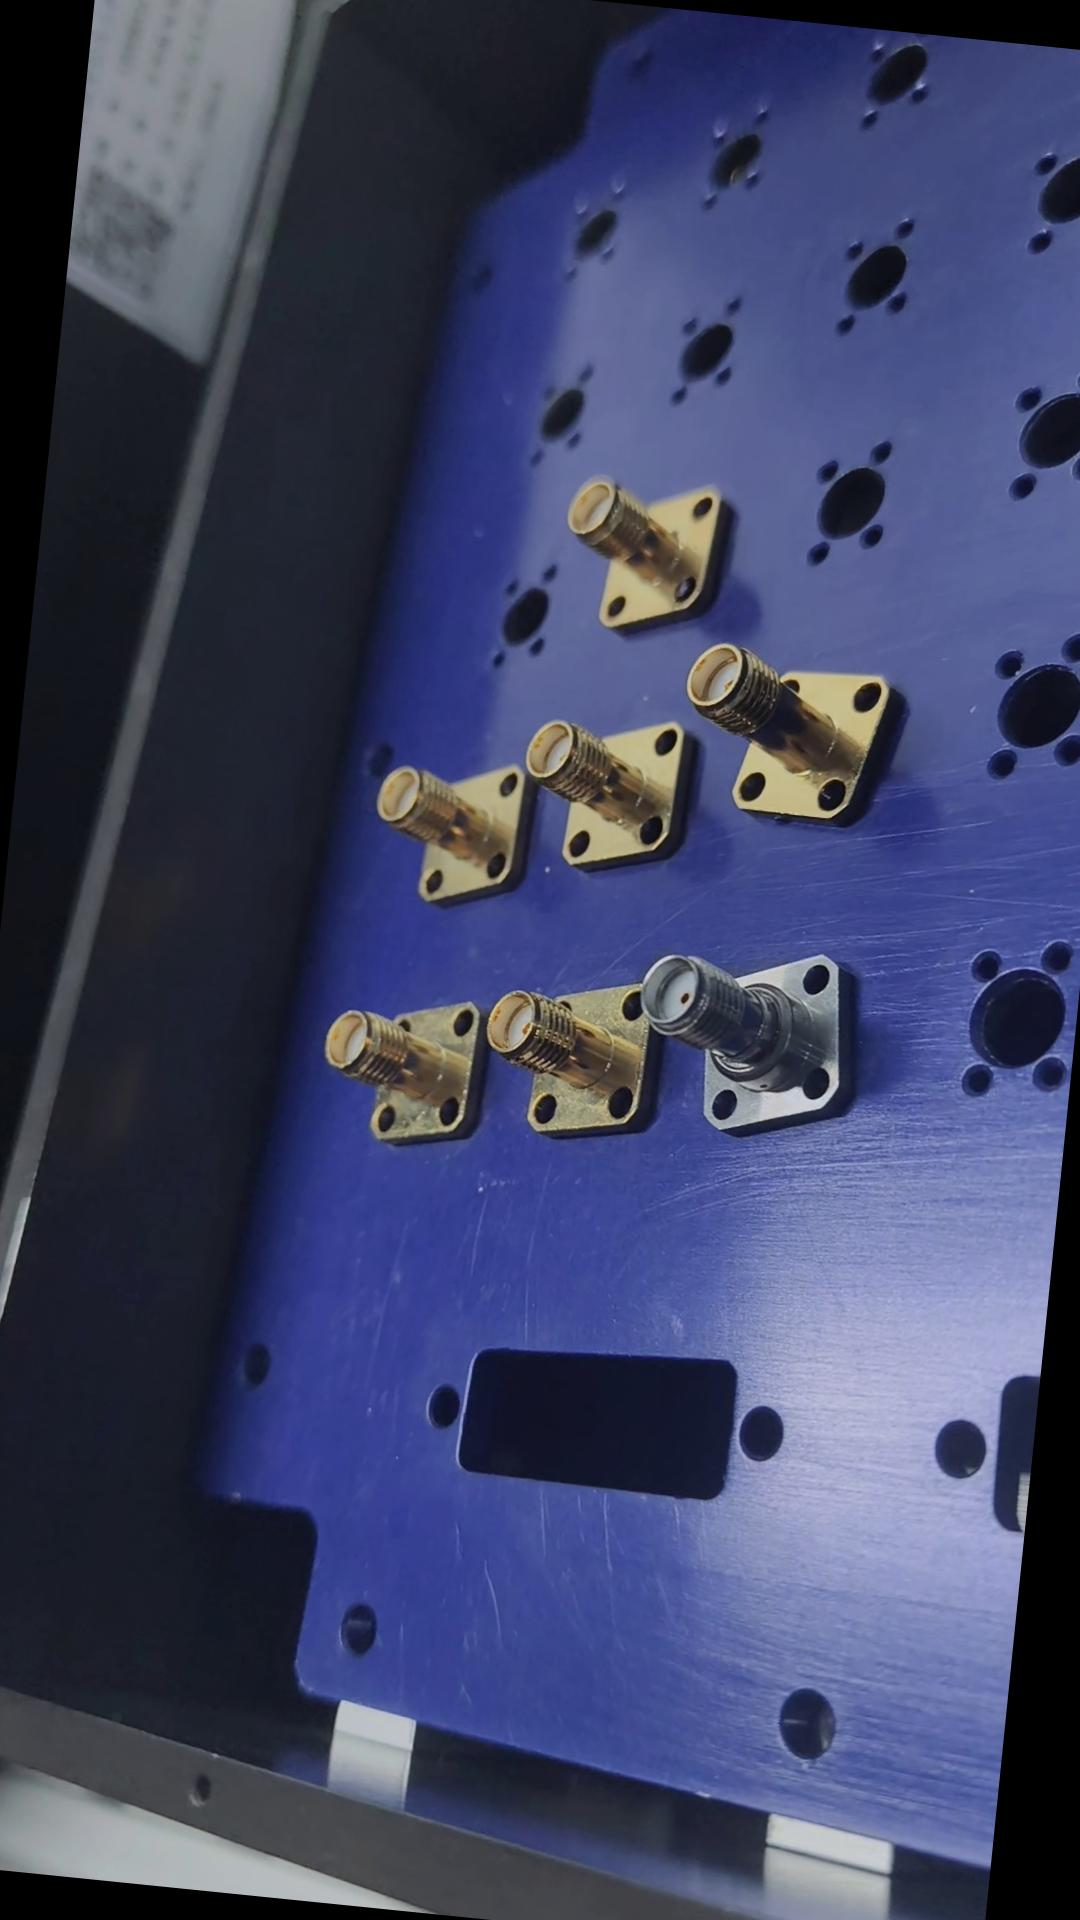SMA: (630, 934, 868, 1146), (676, 633, 901, 829), (477, 969, 658, 1147), (313, 982, 495, 1158), (512, 709, 695, 876), (555, 469, 733, 634), (367, 750, 535, 911)
